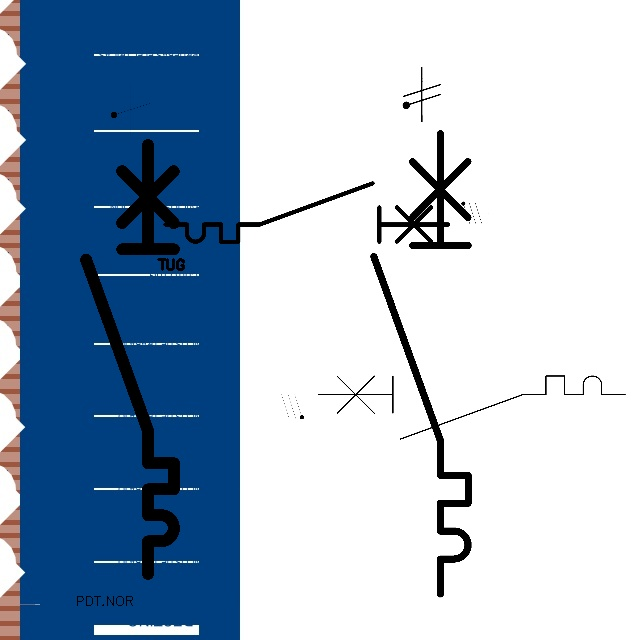interruptor_termomagnetico: (362, 121, 480, 605), (75, 134, 185, 585), (310, 368, 632, 447), (158, 176, 455, 249)
